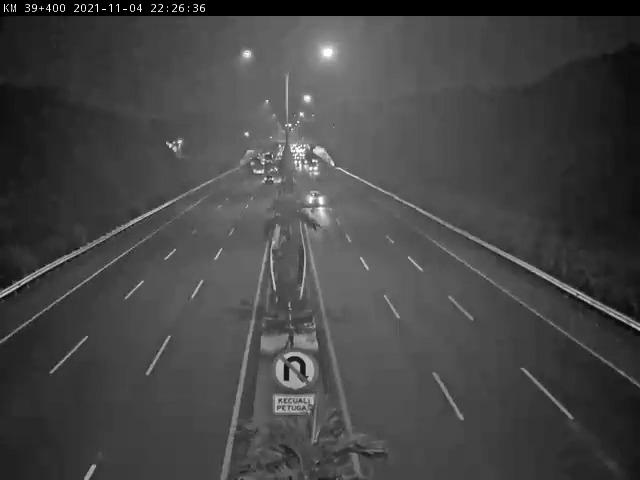car: (305, 188, 328, 208)
